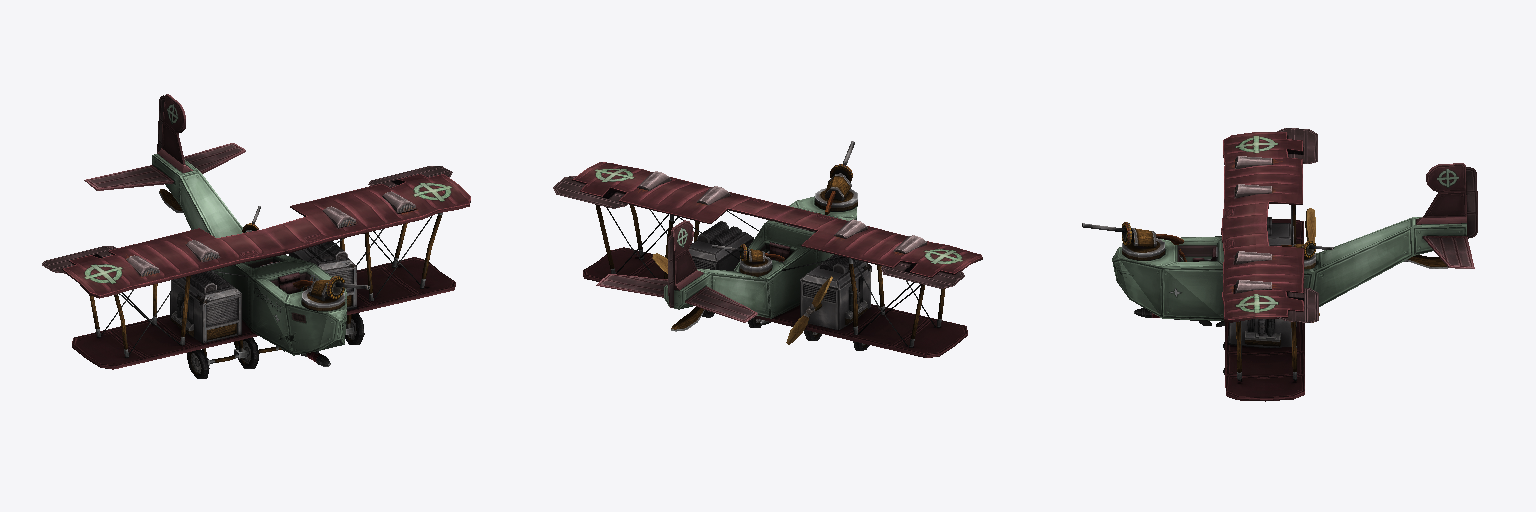
3 views of the same model, side by side, from view 1: azimuth 30°, elevation 25°; view 2: azimuth 150°, elevation 25°; view 3: azimuth 270°, elevation 25° (orthographic).
Parts seen in each view (by area): view 1: Airplane_Mesh; view 2: Airplane_Mesh; view 3: Airplane_Mesh.
Boxes of the visible parts, <box> form: Airplane_Mesh: <box>42,94,470,378</box>; Airplane_Mesh: <box>553,141,982,357</box>; Airplane_Mesh: <box>1082,128,1477,401</box>.
Bounding box in the file's own units: 9.13 × 4.11 × 7.84.
Materials: 1 (1 with a texture image).